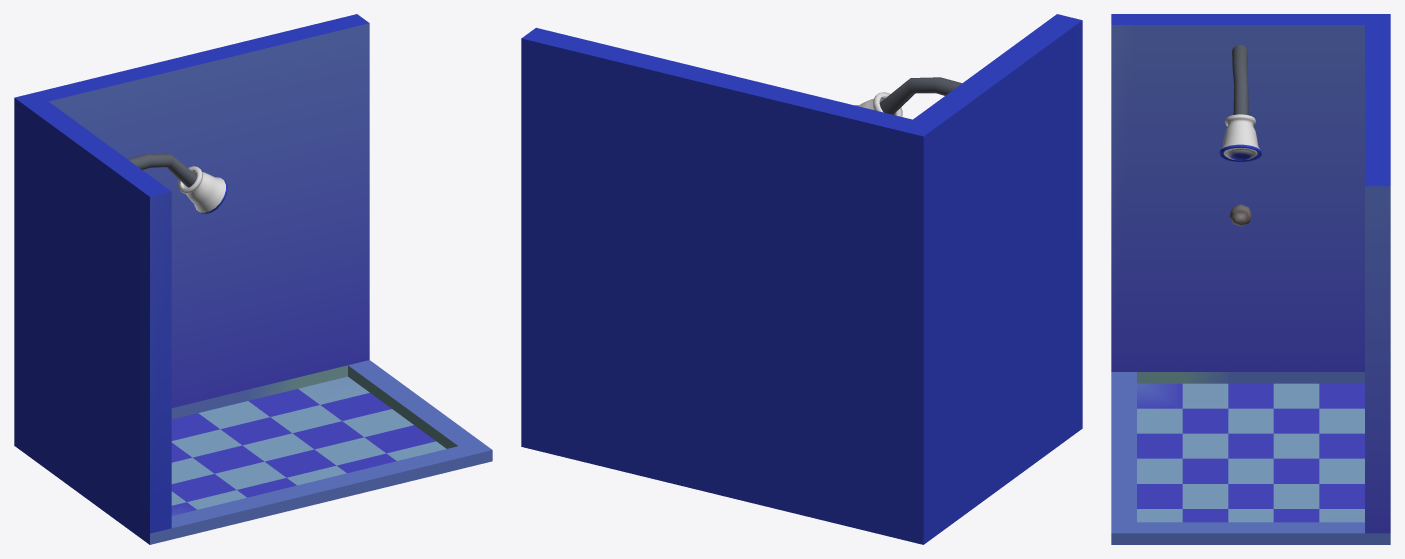
The model's file is BathRoom_00.fbx.
3 views of the same model, side by side, from view 1: azimuth 30°, elevation 25°; view 2: azimuth 150°, elevation 25°; view 3: azimuth 270°, elevation 25° (orthographic). The views are drawn at different scales.
Visible parts, largest first — view 1: Plane.005; view 2: Plane.005; view 3: Plane.005.
Part boxes in pixels (<box>): Plane.005: <box>14,14,492,544</box>; Plane.005: <box>521,14,1082,544</box>; Plane.005: <box>1111,14,1390,544</box>.
Bounding box in the file's own units: 892 × 865 × 610.
